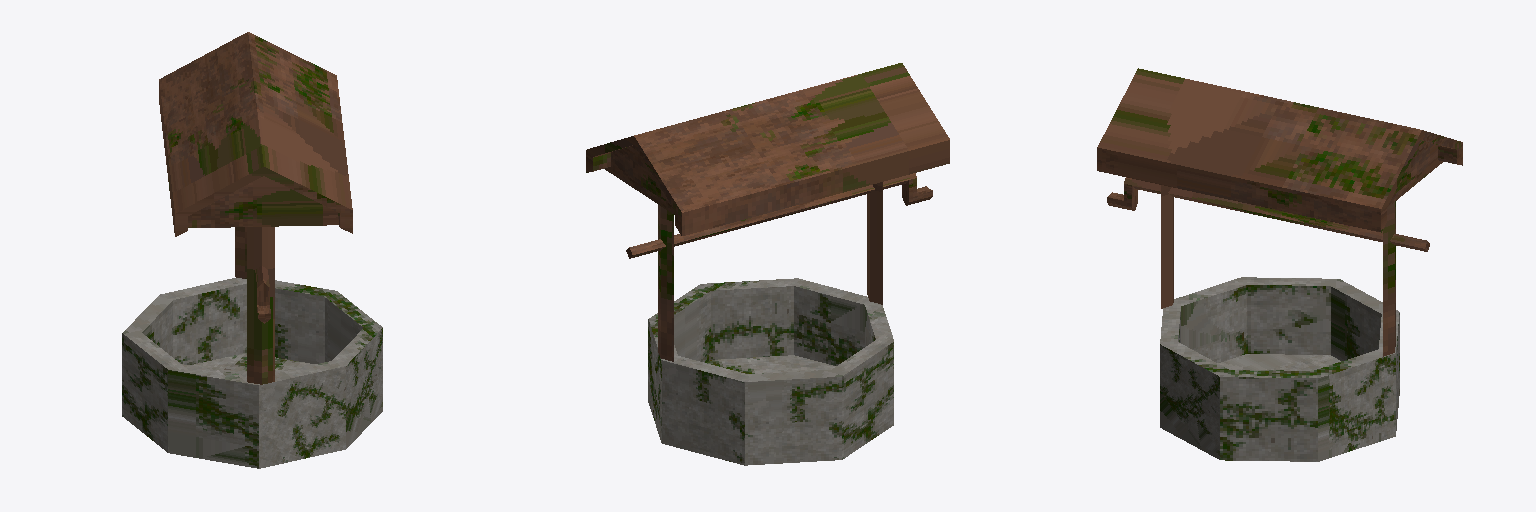
The picture shows the model from 3 angles: view 1: azimuth 30°, elevation 25°; view 2: azimuth 150°, elevation 25°; view 3: azimuth 270°, elevation 25°; orthographic projection.
Parts seen in each view (by area): view 1: Cube.001, Cube.002, Cylinder.001, Cylinder.002, Cylinder; view 2: Cube.001, Cube.002, Cylinder.002, Cylinder, Cylinder.001; view 3: Cube.001, Cube.002, Cylinder.002, Cylinder, Cylinder.001.
Part boxes in pixels (left/top/right/bottom): Cube.001: left=122, top=278, right=382, bottom=468; Cube.002: left=159, top=32, right=352, bottom=236; Cylinder.001: left=247, top=227, right=274, bottom=384; Cylinder.002: left=255, top=266, right=270, bottom=323; Cylinder: left=235, top=227, right=246, bottom=278; Cube.001: left=648, top=278, right=893, bottom=465; Cube.002: left=586, top=63, right=949, bottom=235; Cylinder.002: left=626, top=173, right=932, bottom=258; Cylinder: left=658, top=205, right=673, bottom=361; Cylinder.001: left=867, top=182, right=882, bottom=304; Cube.001: left=1160, top=277, right=1399, bottom=461; Cube.002: left=1097, top=68, right=1462, bottom=232; Cylinder.002: left=1107, top=177, right=1429, bottom=251; Cylinder: left=1383, top=201, right=1395, bottom=356; Cylinder.001: left=1161, top=185, right=1173, bottom=308.
Size of the model in its own units: 3.42 by 3.89 by 4.11.
Materials: 2 (2 with a texture image).